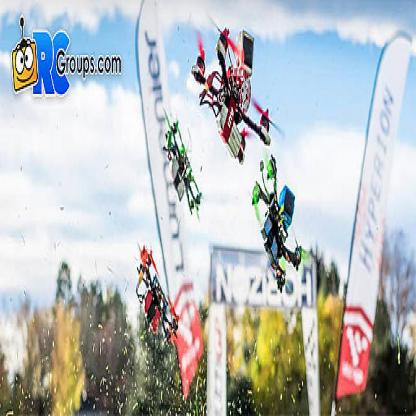drone: (185, 3, 275, 172), (248, 157, 312, 316), (132, 222, 184, 361), (156, 97, 206, 230)
